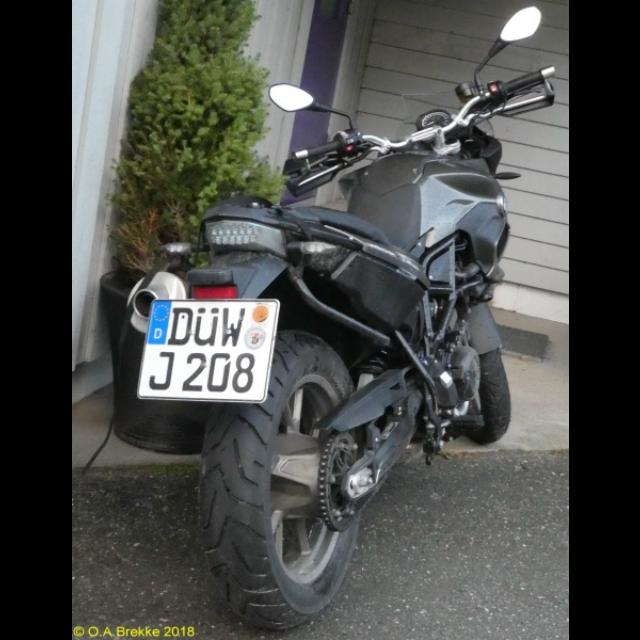d_license_plate: (137, 298, 279, 402)
